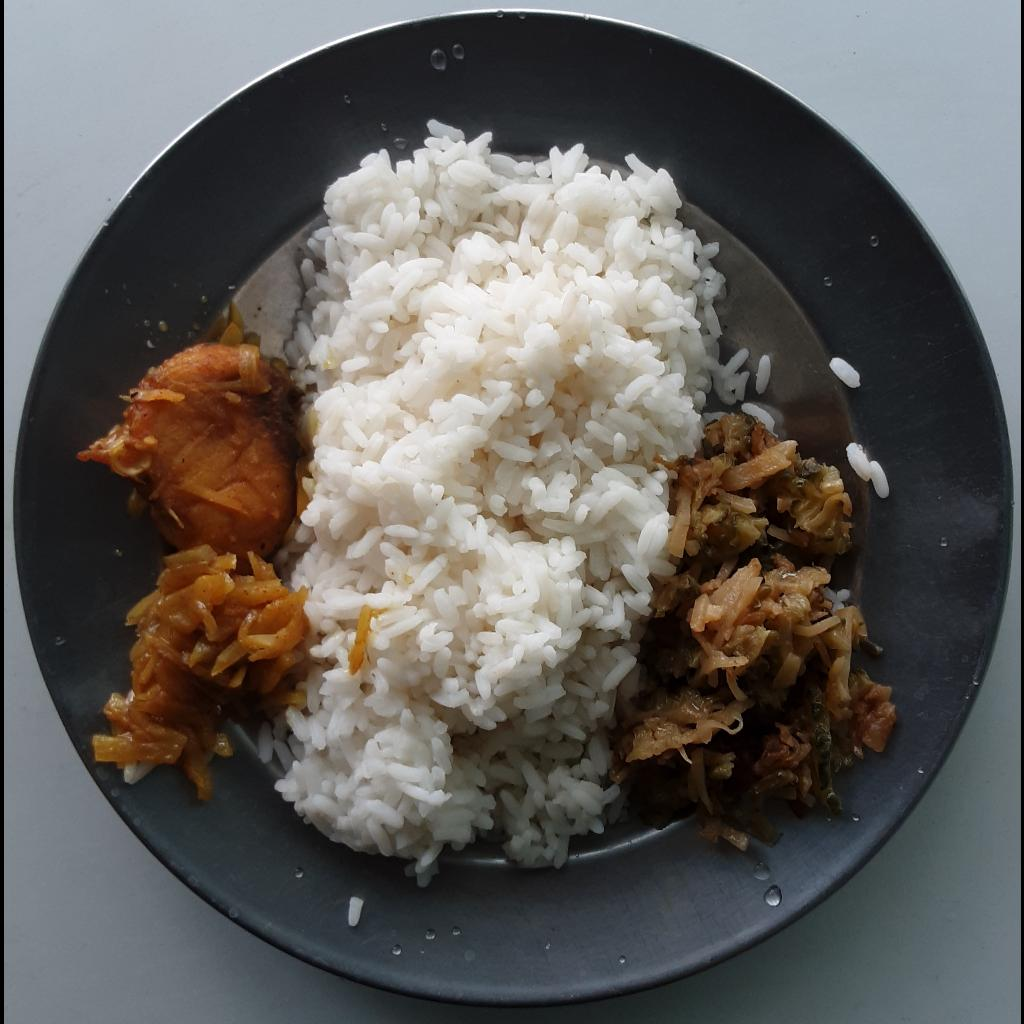fish: (80, 307, 307, 563)
korola-vaji: (617, 411, 904, 852)
potato: (94, 545, 307, 804)
rice: (260, 118, 775, 887)
